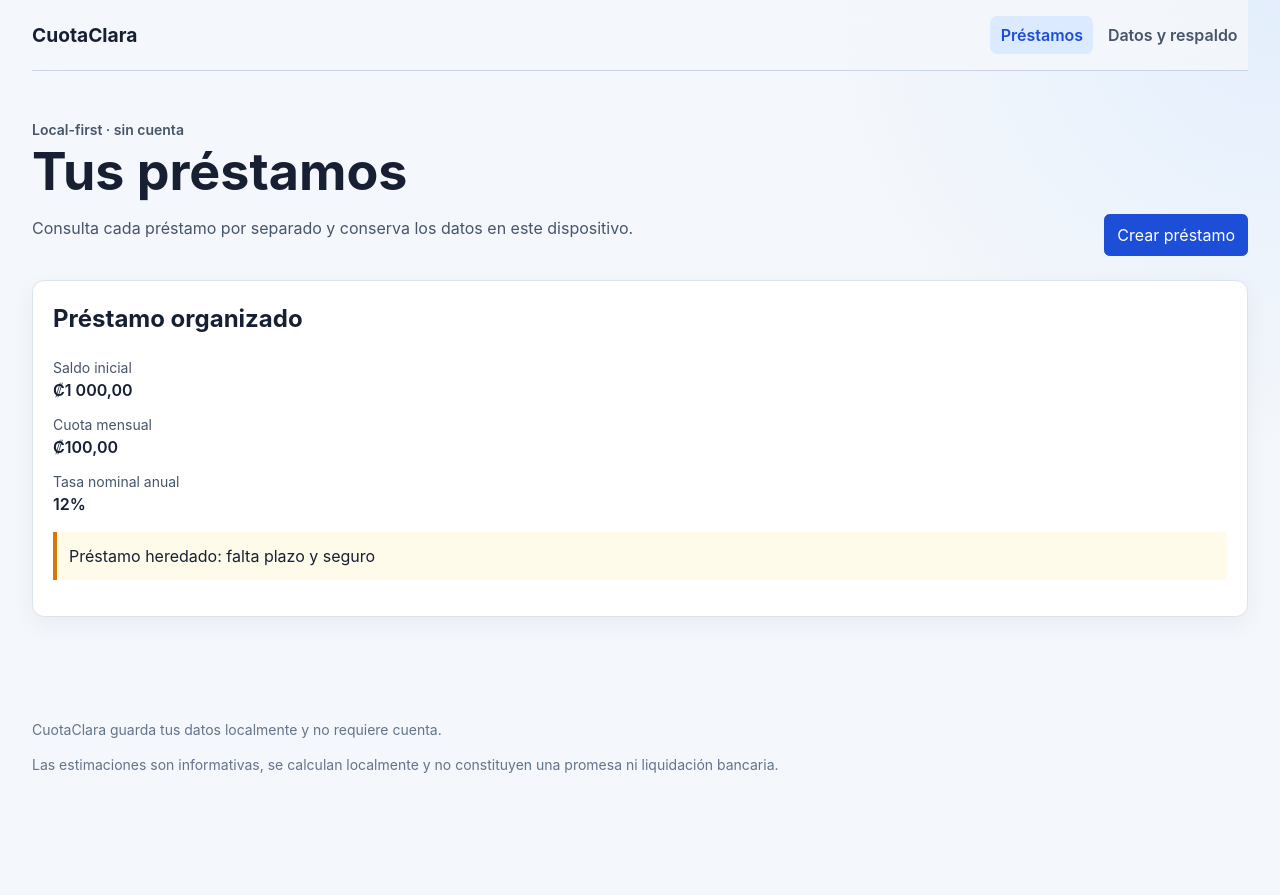
Test case: App › separa las tareas del préstamo en vistas navegables
Check: the heading "Préstamo organizado" is shown, box [53,304,303,333]
Click the button with aria-label "Abrir préstamo Préstamo organizado".
click(640, 597)  # box [32,280,1248,617]
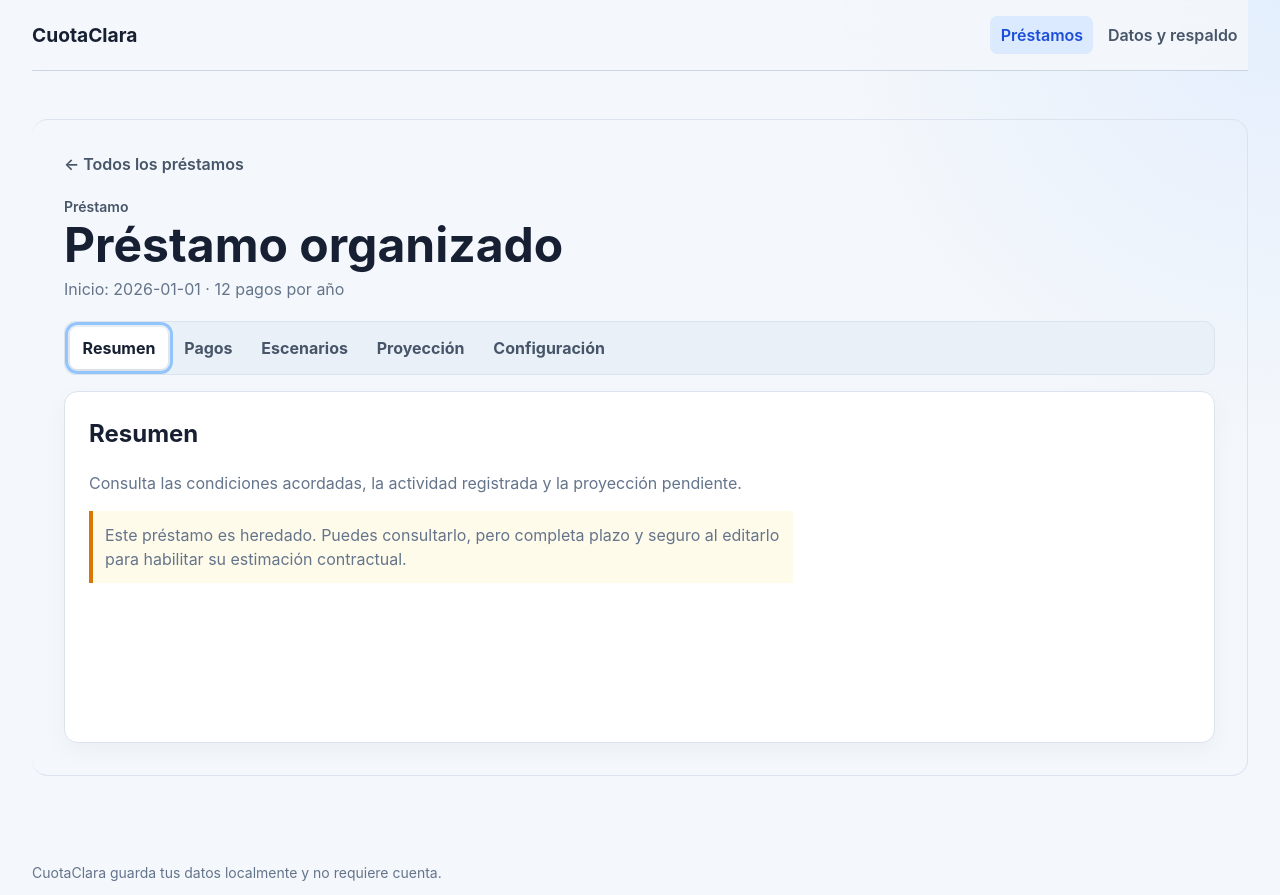
Check: the heading "Pagos históricos" is not shown
Check: the navigation bar named "Secciones del préstamo" is shown, box [64,321,1215,374]
Press ArrowRight in the tab "Resumen", box [70,327,168,369]
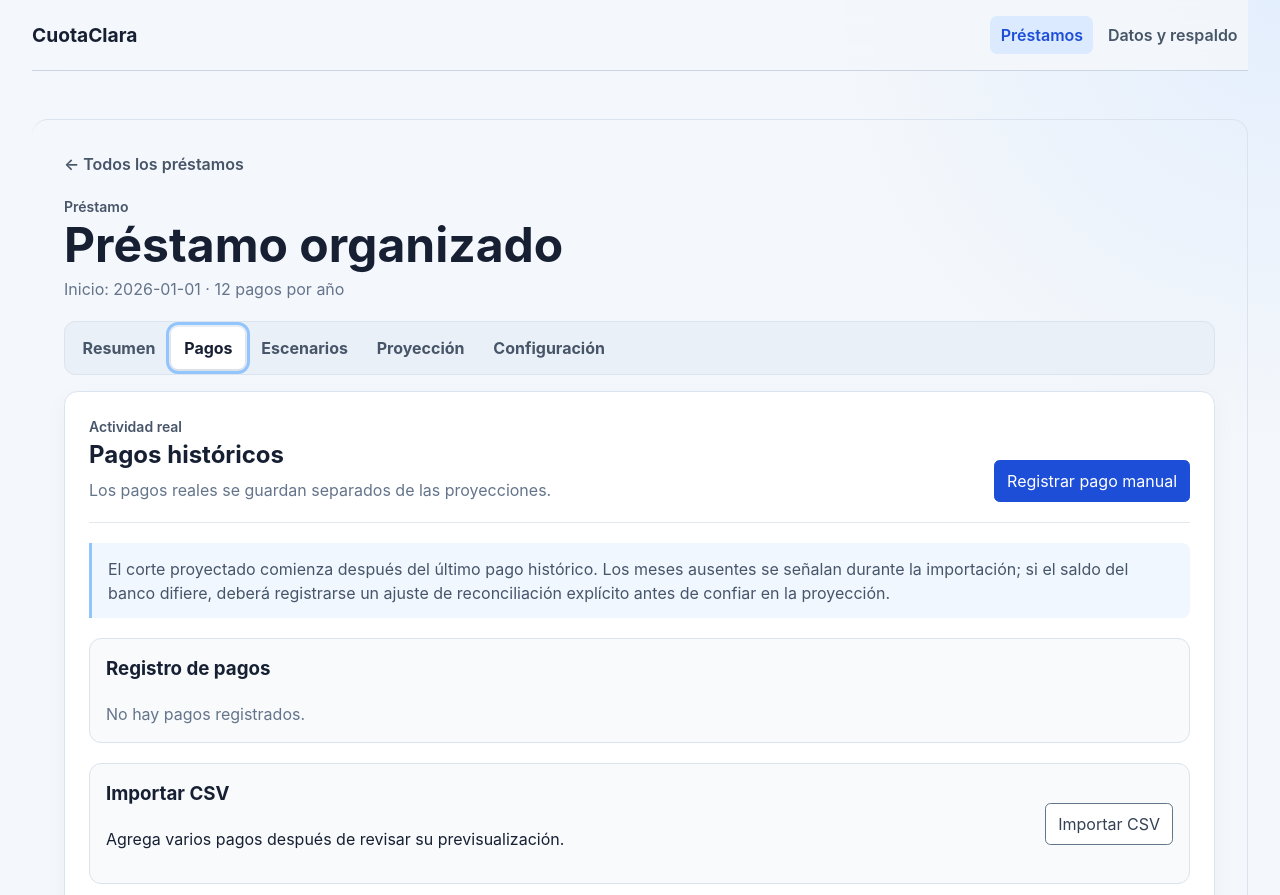
Check: the heading "Pagos históricos" is shown, box [89,440,284,468]
Click the tab "Escenarios".
click(305, 348)  # box [249,327,361,369]
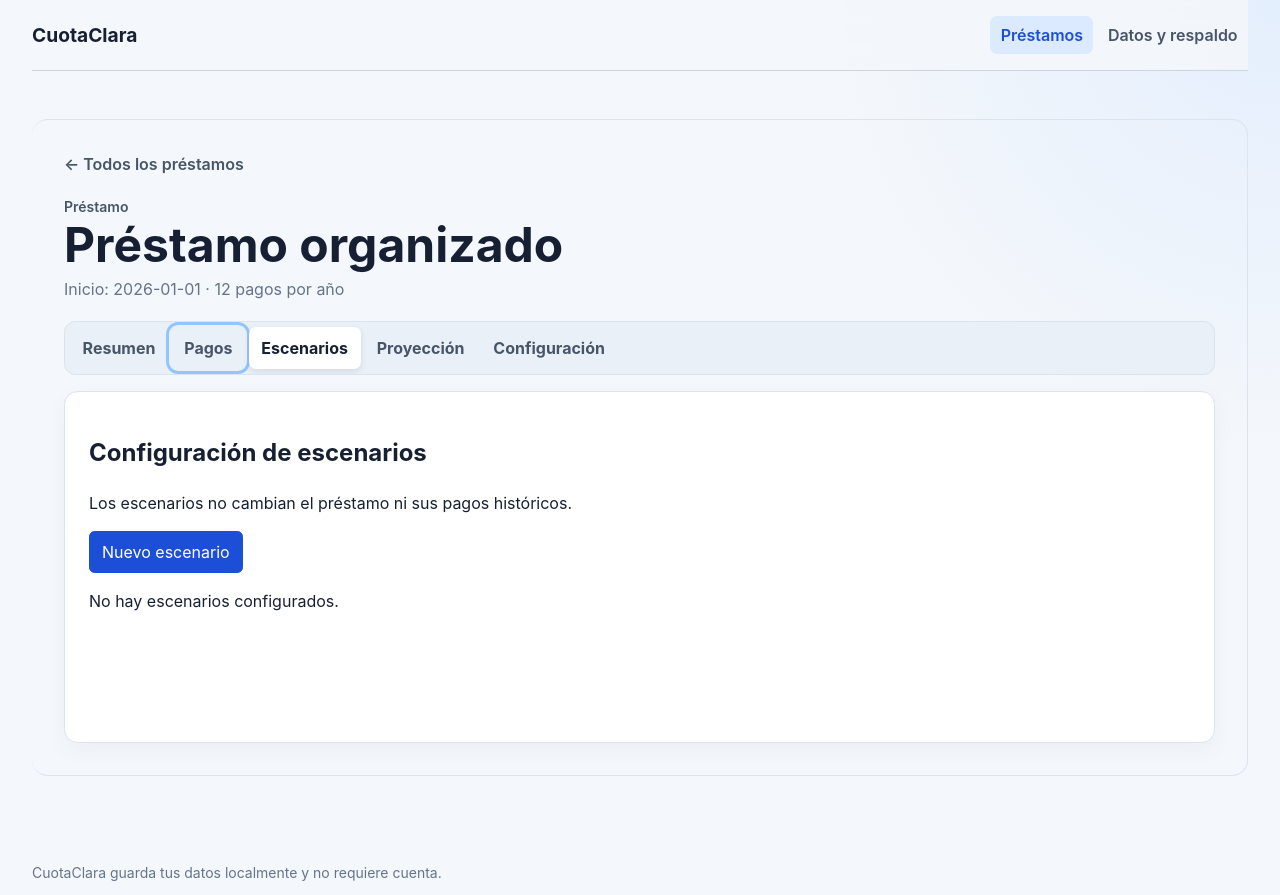
Check: the heading "Configuración de escenarios" is shown, box [89,438,427,467]
Click the tab "Proyección".
click(421, 348)  # box [364,327,477,369]
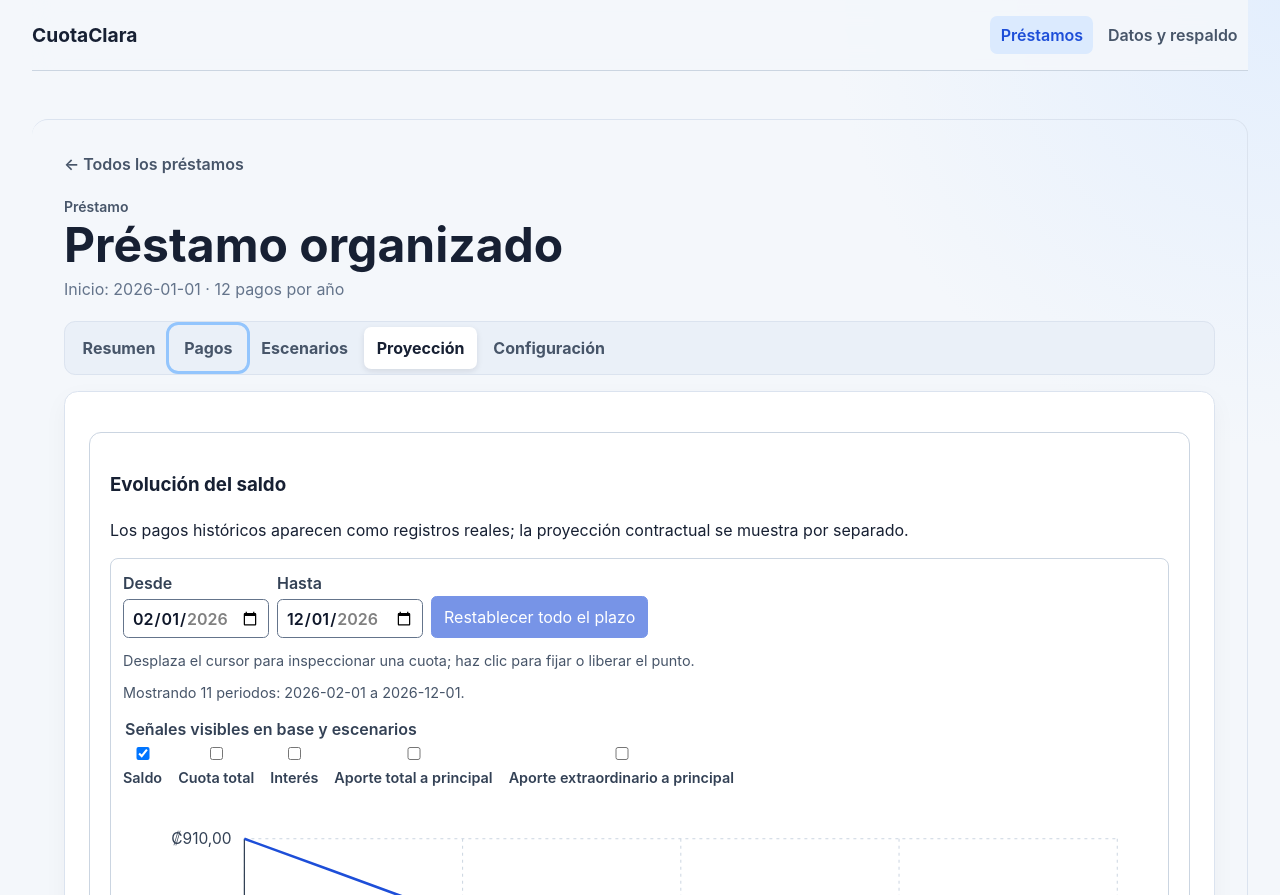
Check: the heading "Evolución del saldo" is shown, box [110,473,286,496]
Click the tab "Configuración".
click(549, 348)  # box [480,327,618,369]
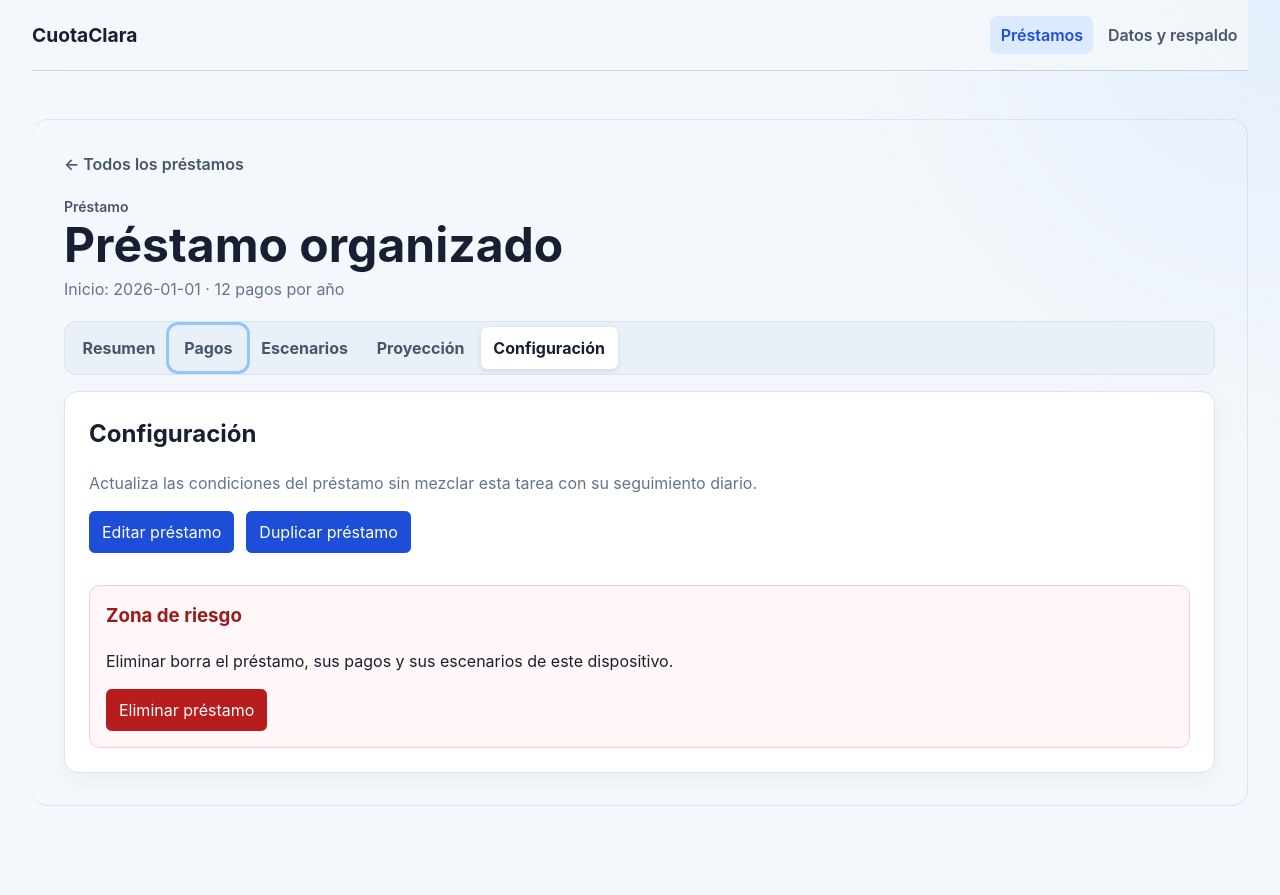
Check: the heading "Zona de riesgo" is shown, box [106,604,242,627]
Click the button "← Todos los préstamos".
click(154, 164)  # box [54,145,254,184]
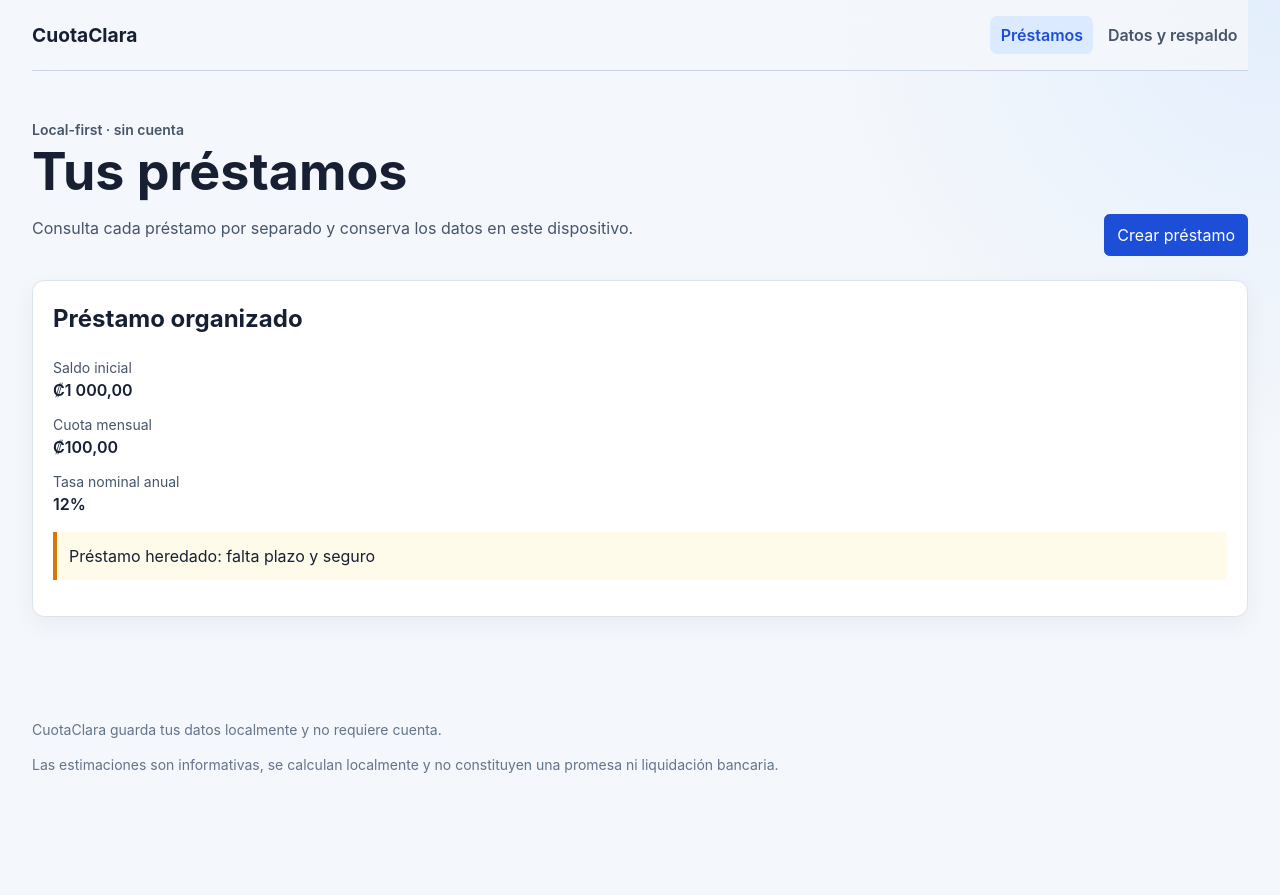
Check: the heading "Tus préstamos" is shown, box [32,140,407,203]
